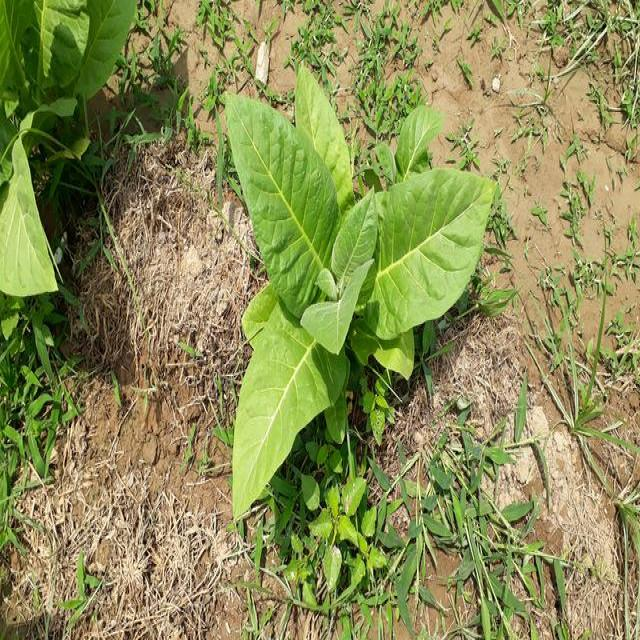crop: (221, 87, 496, 506), (0, 12, 137, 306)
